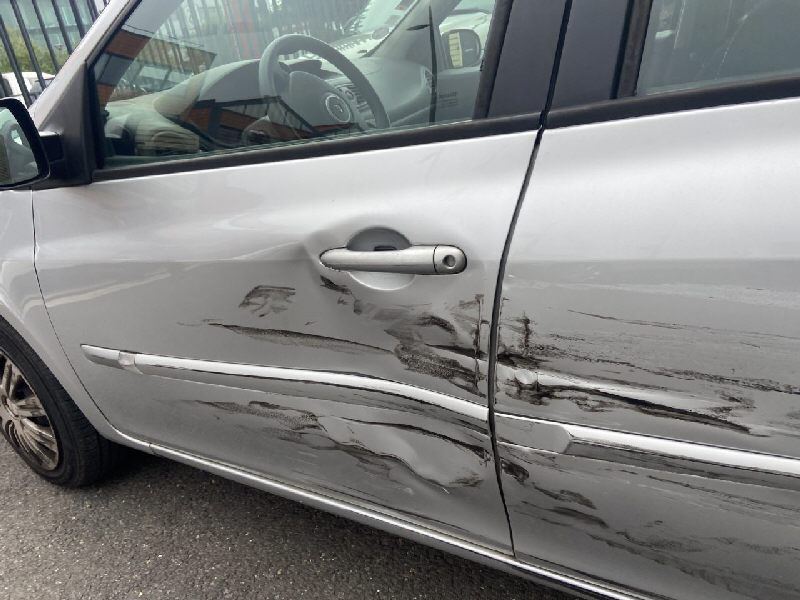front door: (1, 1, 573, 572)
